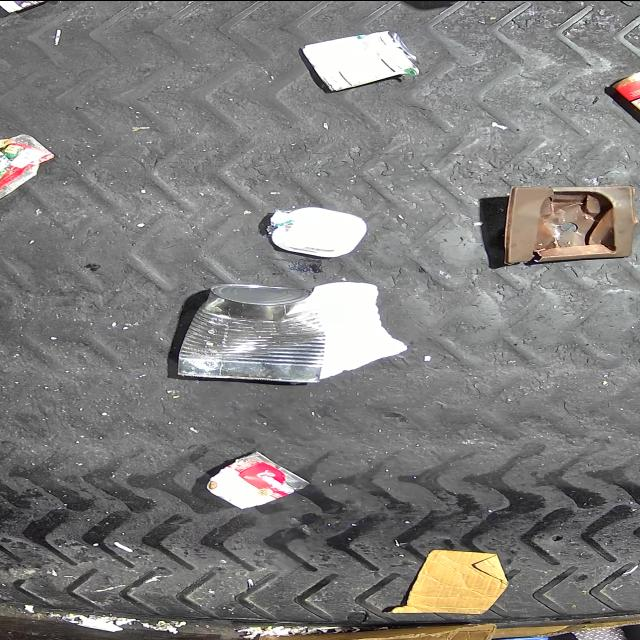can: (177, 283, 325, 382), (298, 29, 422, 92), (206, 451, 310, 509)
